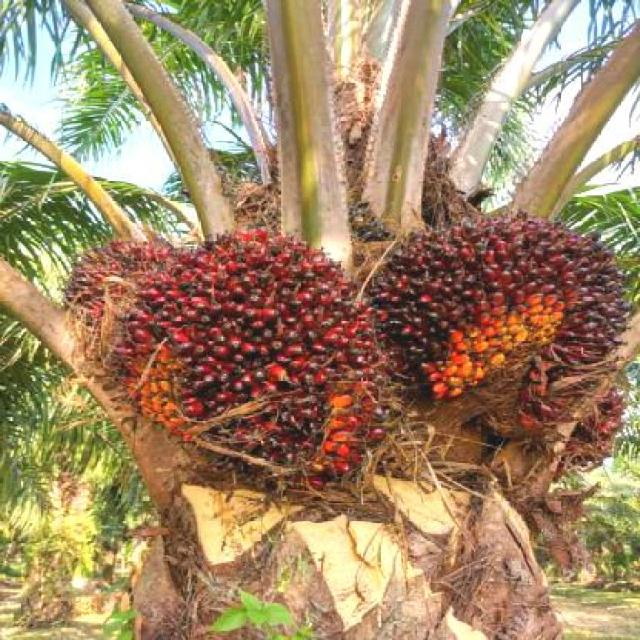palm-oil: (352, 201, 638, 460), (81, 238, 397, 456)
